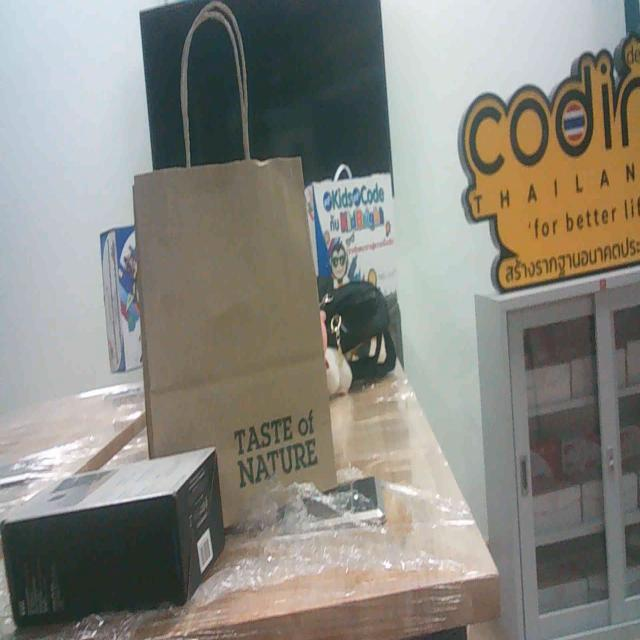bag: (128, 119, 334, 515)
